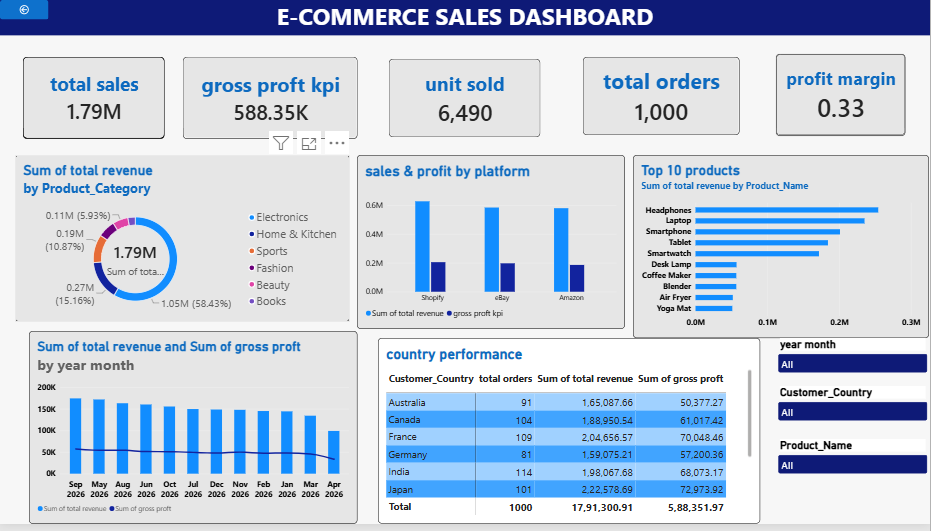

The dashboard page shown, as its layout file describes it:
{"tool":"powerbi","page":{"name":"Page 1","canvas":[1920,1080],"ordinal":0},"visuals":[{"type":"cardVisual","fields":{"Data":["Ecom_Sales_Data.profit margin"]},"box":[1603,110.6,267.1,168.8],"z":0},{"type":"cardVisual","fields":{"Data":["Ecom_Sales_Data.total sales"]},"box":[46.8,116.9,292.3,168.8],"z":1},{"type":"cardVisual","fields":{"Data":["Ecom_Sales_Data.total orders disply"]},"box":[1203.3,116.9,322.5,161.3],"z":2},{"type":"cardVisual","fields":{"Data":["Ecom_Sales_Data.unit sold display"]},"box":[803.6,121.2,312.4,161.3],"z":3},{"type":"cardVisual","fields":{"Data":["Ecom_Sales_Data.gross proft kpi"]},"box":[378.4,116.9,360.3,168.8],"z":5},{"type":"donutChart","fields":{"Category":["Ecom_Sales_Data.Product_Category"],"Y":["Sum(Ecom_Sales_Data.total revenue)"]},"box":[31.9,321,690.9,344.4],"z":6},{"type":"textbox","box":[0,0,1920,73.1],"z":7},{"type":"clusteredColumnChart","title":"sales & profit by platform","fields":{"Category":["Ecom_Sales_Data.Platform"],"Y":["Sum(Ecom_Sales_Data.total revenue)","Ecom_Sales_Data.gross proft kpi"]},"box":[737.7,321,552.8,359.3],"z":8},{"type":"lineStackedColumnComboChart","fields":{"Category":["calender.year month"],"Y":["Sum(Ecom_Sales_Data.total revenue)"],"Y2":["Sum(Ecom_Sales_Data.gross proft)"]},"box":[59.5,682.4,678.2,397.6],"z":9},{"type":"actionButton","box":[0,0,100,40],"z":10},{"type":"clusteredBarChart","title":"Top 10 products","fields":{"Category":["Ecom_Sales_Data.Product_Name"],"Y":["Sum(Ecom_Sales_Data.total revenue)"]},"box":[1306.8,320,611.1,377.8],"z":11},{"type":"pivotTable","title":"country performance","fields":{"Rows":["Ecom_Sales_Data.Customer_Country"],"Values":["Ecom_Sales_Data.total orders","Sum(Ecom_Sales_Data.total revenue)","Sum(Ecom_Sales_Data.gross proft)"]},"box":[780.2,697.3,788.7,382.7],"z":12},{"type":"slicer","fields":{"Values":["calender.year month"]},"box":[1603,697.3,316.8,91.4],"z":13},{"type":"slicer","fields":{"Values":["Ecom_Sales_Data.Customer_Country"]},"box":[1603,797.2,316.8,91.4],"z":14},{"type":"slicer","fields":{"Values":["Ecom_Sales_Data.Product_Name"]},"box":[1603,905.7,316.8,91.4],"z":15}]}

Visuals, with their boxes in screenshot pixels (x1, y1, x2, y2), scaled from the page's 1920x1080 canvas onto the 939x531 screenshot:
cardVisual - Ecom_Sales_Data.profit margin: rect(784, 54, 915, 137)
cardVisual - Ecom_Sales_Data.total sales: rect(23, 57, 166, 140)
cardVisual - Ecom_Sales_Data.total orders disply: rect(588, 57, 746, 137)
cardVisual - Ecom_Sales_Data.unit sold display: rect(393, 60, 546, 139)
cardVisual - Ecom_Sales_Data.gross proft kpi: rect(185, 57, 361, 140)
donutChart - Ecom_Sales_Data.Product_Category x Sum(Ecom_Sales_Data.total revenue): rect(16, 158, 353, 327)
textbox: rect(0, 0, 938, 36)
"sales & profit by platform" clusteredColumnChart: rect(361, 158, 631, 334)
lineStackedColumnComboChart - calender.year month x Sum(Ecom_Sales_Data.total revenue): rect(29, 336, 361, 530)
actionButton: rect(0, 0, 49, 20)
"Top 10 products" clusteredBarChart: rect(639, 157, 938, 343)
"country performance" pivotTable: rect(382, 343, 767, 530)
slicer - calender.year month: rect(784, 343, 938, 388)
slicer - Ecom_Sales_Data.Customer_Country: rect(784, 392, 938, 437)
slicer - Ecom_Sales_Data.Product_Name: rect(784, 445, 938, 490)
